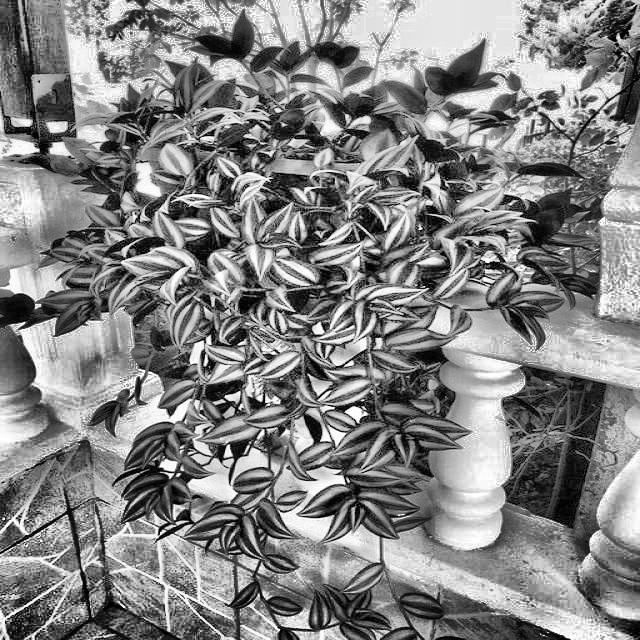plants: (9, 9, 607, 640)
